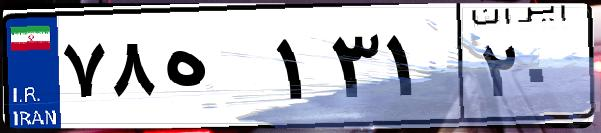0: (525, 38, 570, 115)
1: (270, 28, 330, 110), (385, 28, 445, 110)
2: (475, 38, 525, 113)
3: (330, 28, 385, 110)
7: (57, 26, 110, 100)
8: (110, 28, 158, 98)
ه: (158, 20, 270, 120)
